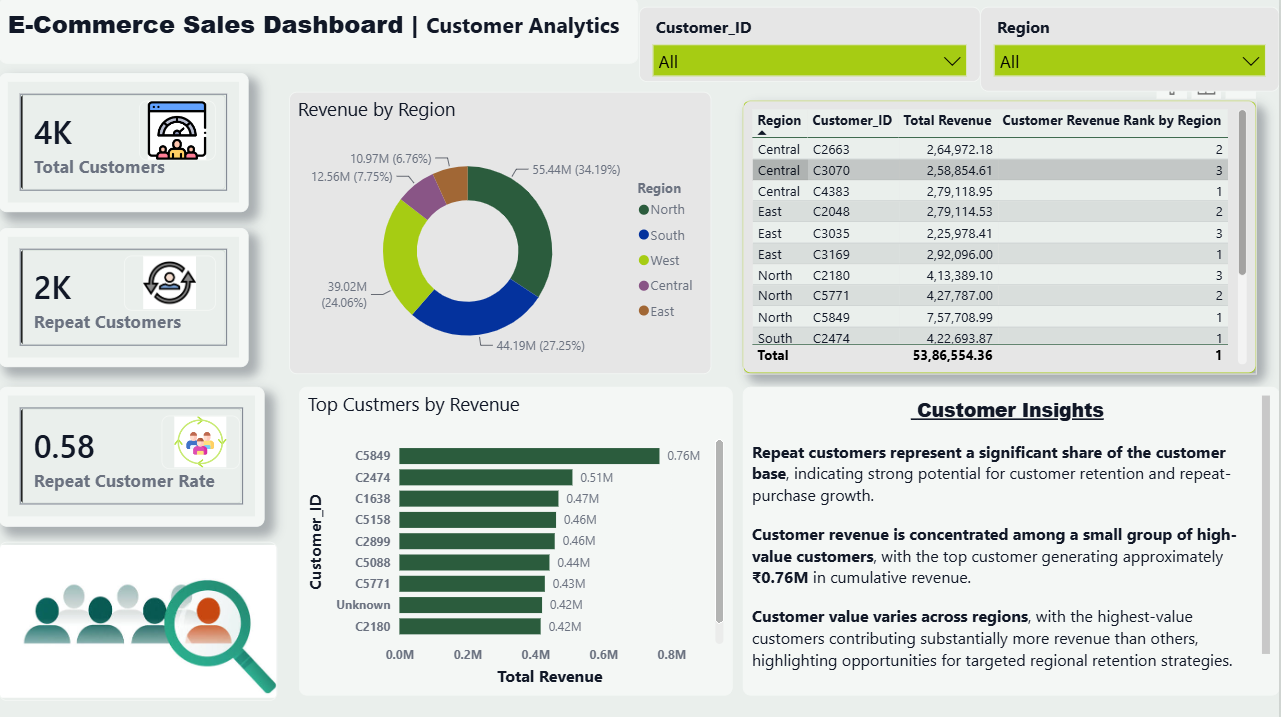

What the dashboard file says about the page in this screenshot:
{"tool":"powerbi","page":{"name":"Customer Analytics","canvas":[1280,720],"ordinal":2},"visuals":[{"type":"cardVisual","fields":{"Data":["Clean_Data.Total Customers"]},"box":[0,75.5,249.4,139.6],"z":0},{"type":"cardVisual","fields":{"Data":["Clean_Data.Repeat Customers"]},"box":[0,230.5,249.4,139.6],"z":1000},{"type":"cardVisual","fields":{"Data":["Clean_Data.Repeat Customer Rate"]},"box":[0,388.3,265.4,139.9],"z":2000},{"type":"donutChart","title":"Revenue by Region","fields":{"Category":["Clean_Data.Region"],"Y":["Clean_Data.Total Revenue"]},"box":[289.5,93.3,422.6,282.7],"z":3000},{"type":"clusteredBarChart","title":"Top Custmers by Revenue","fields":{"Category":["Clean_Data.Customer_ID"],"Y":["Clean_Data.Total Revenue"]},"box":[300.5,388.3,433.6,308.7],"z":4000},{"type":"tableEx","fields":{"Values":["Clean_Data.Region","Clean_Data.Customer_ID","Clean_Data.Total Revenue","Clean_Data.Customer Revenue Rank by Region"]},"box":[743.7,102.9,513.2,273.1],"z":5000},{"type":"textbox","box":[0,0,639.5,65.9],"z":6000},{"type":"textbox","box":[743.7,388.3,536.5,308.7],"z":7000},{"type":"image","box":[0,543.4,278.6,159.2],"z":8000},{"type":"image","box":[140,102.9,76.8,60.4],"z":9000},{"type":"image","box":[161.9,417.2,78.2,53.5],"z":10000},{"type":"image","box":[124.9,258,91.9,54.9],"z":11000},{"type":"slicer","fields":{"Values":["Clean_Data.Customer_ID"]},"box":[639.5,8.2,341.7,75.5],"z":12000},{"type":"slicer","fields":{"Values":["Clean_Data.Region"]},"box":[981.1,8.2,299.1,85.1],"z":13000}]}

Visuals, with their boxes in screenshot pixels (x1, y1, x2, y2), scaled from the page's 1280x720 canvas onto the 1281x717 screenshot:
cardVisual - Clean_Data.Total Customers: rect(0, 75, 250, 214)
cardVisual - Clean_Data.Repeat Customers: rect(0, 230, 250, 369)
cardVisual - Clean_Data.Repeat Customer Rate: rect(0, 387, 266, 526)
"Revenue by Region" donutChart: rect(290, 93, 713, 374)
"Top Custmers by Revenue" clusteredBarChart: rect(301, 387, 735, 694)
tableEx - Clean_Data.Region x Clean_Data.Customer_ID: rect(744, 102, 1258, 374)
textbox: rect(0, 0, 640, 66)
textbox: rect(744, 387, 1280, 694)
image: rect(0, 541, 279, 700)
image: rect(140, 102, 217, 163)
image: rect(162, 415, 240, 469)
image: rect(125, 257, 217, 312)
slicer - Clean_Data.Customer_ID: rect(640, 8, 982, 83)
slicer - Clean_Data.Region: rect(982, 8, 1280, 93)
